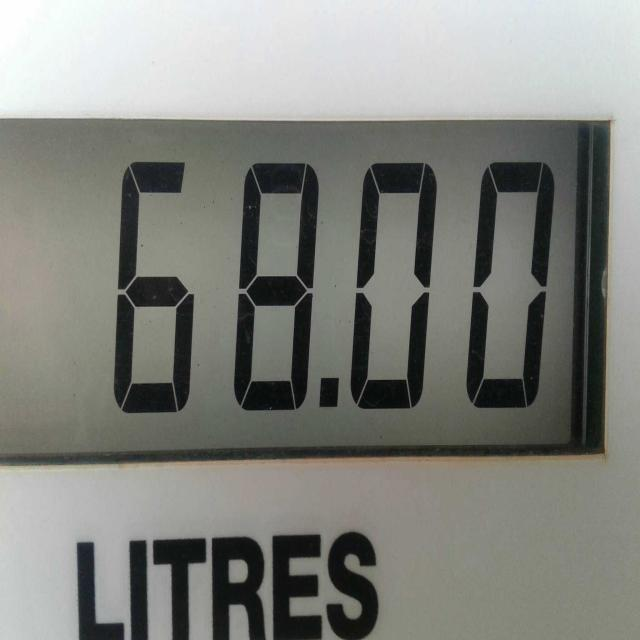.: (308, 361, 345, 430)
0: (452, 148, 568, 422), (343, 157, 442, 419)
6: (104, 147, 210, 415)
8: (215, 142, 323, 424)
